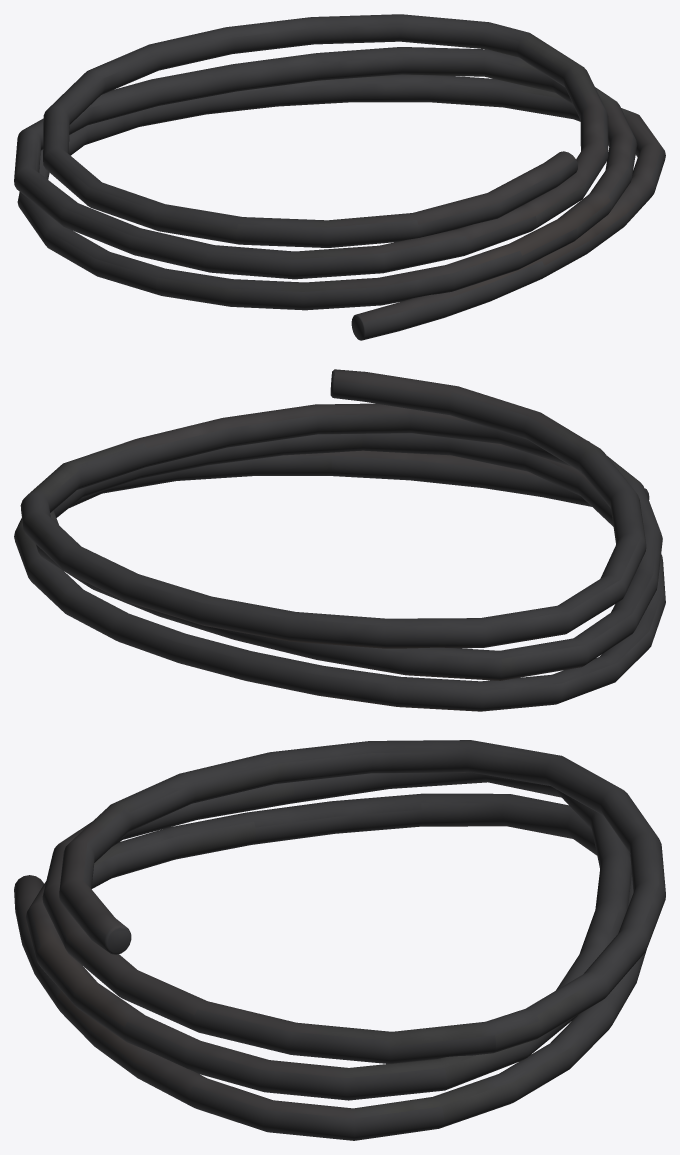
Rendered from couronne_cable.glb.
3 views of the same model, one above another, from view 1: azimuth 30°, elevation 25°; view 2: azimuth 150°, elevation 25°; view 3: azimuth 270°, elevation 25° (orthographic). The views are drawn at different scales.
Visible parts, largest first — view 1: Coil_Of_Cable; view 2: Coil_Of_Cable; view 3: Coil_Of_Cable.
Part boxes in pixels (x1,y1,x2,y2): Coil_Of_Cable: (14,14,665,340); Coil_Of_Cable: (14,369,665,711); Coil_Of_Cable: (14,740,665,1140).
Size of the model in its own units: 0.7457 by 0.127 by 0.6292.
Materials: 1 (1 with a texture image).
